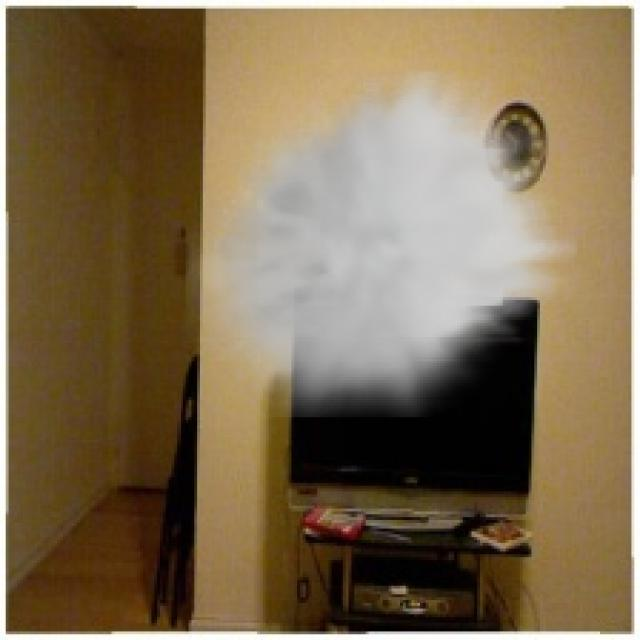smoke: (186, 72, 577, 417)
